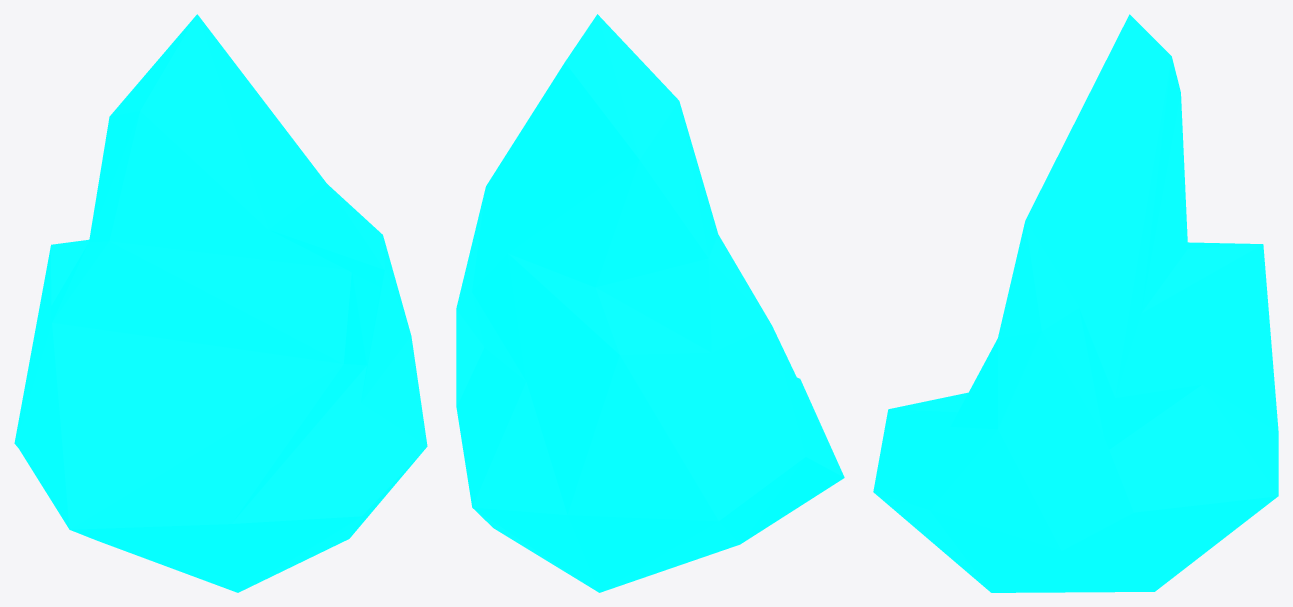
The model's file is lantern-flame-blue.glb.
3 renders of one model, left to right at view 1: azimuth 30°, elevation 25°; view 2: azimuth 150°, elevation 25°; view 3: azimuth 270°, elevation 25°, orthographic. The views are drawn at different scales.
Parts seen in each view (by area): view 1: blue-fire; view 2: blue-fire; view 3: blue-fire.
Part boxes in pixels (left/top/right/bottom): blue-fire: left=14, top=14, right=427, bottom=592; blue-fire: left=456, top=14, right=844, bottom=592; blue-fire: left=873, top=14, right=1278, bottom=592.
Bounding box in the file's own units: 0.1905 × 0.2753 × 0.1766.
